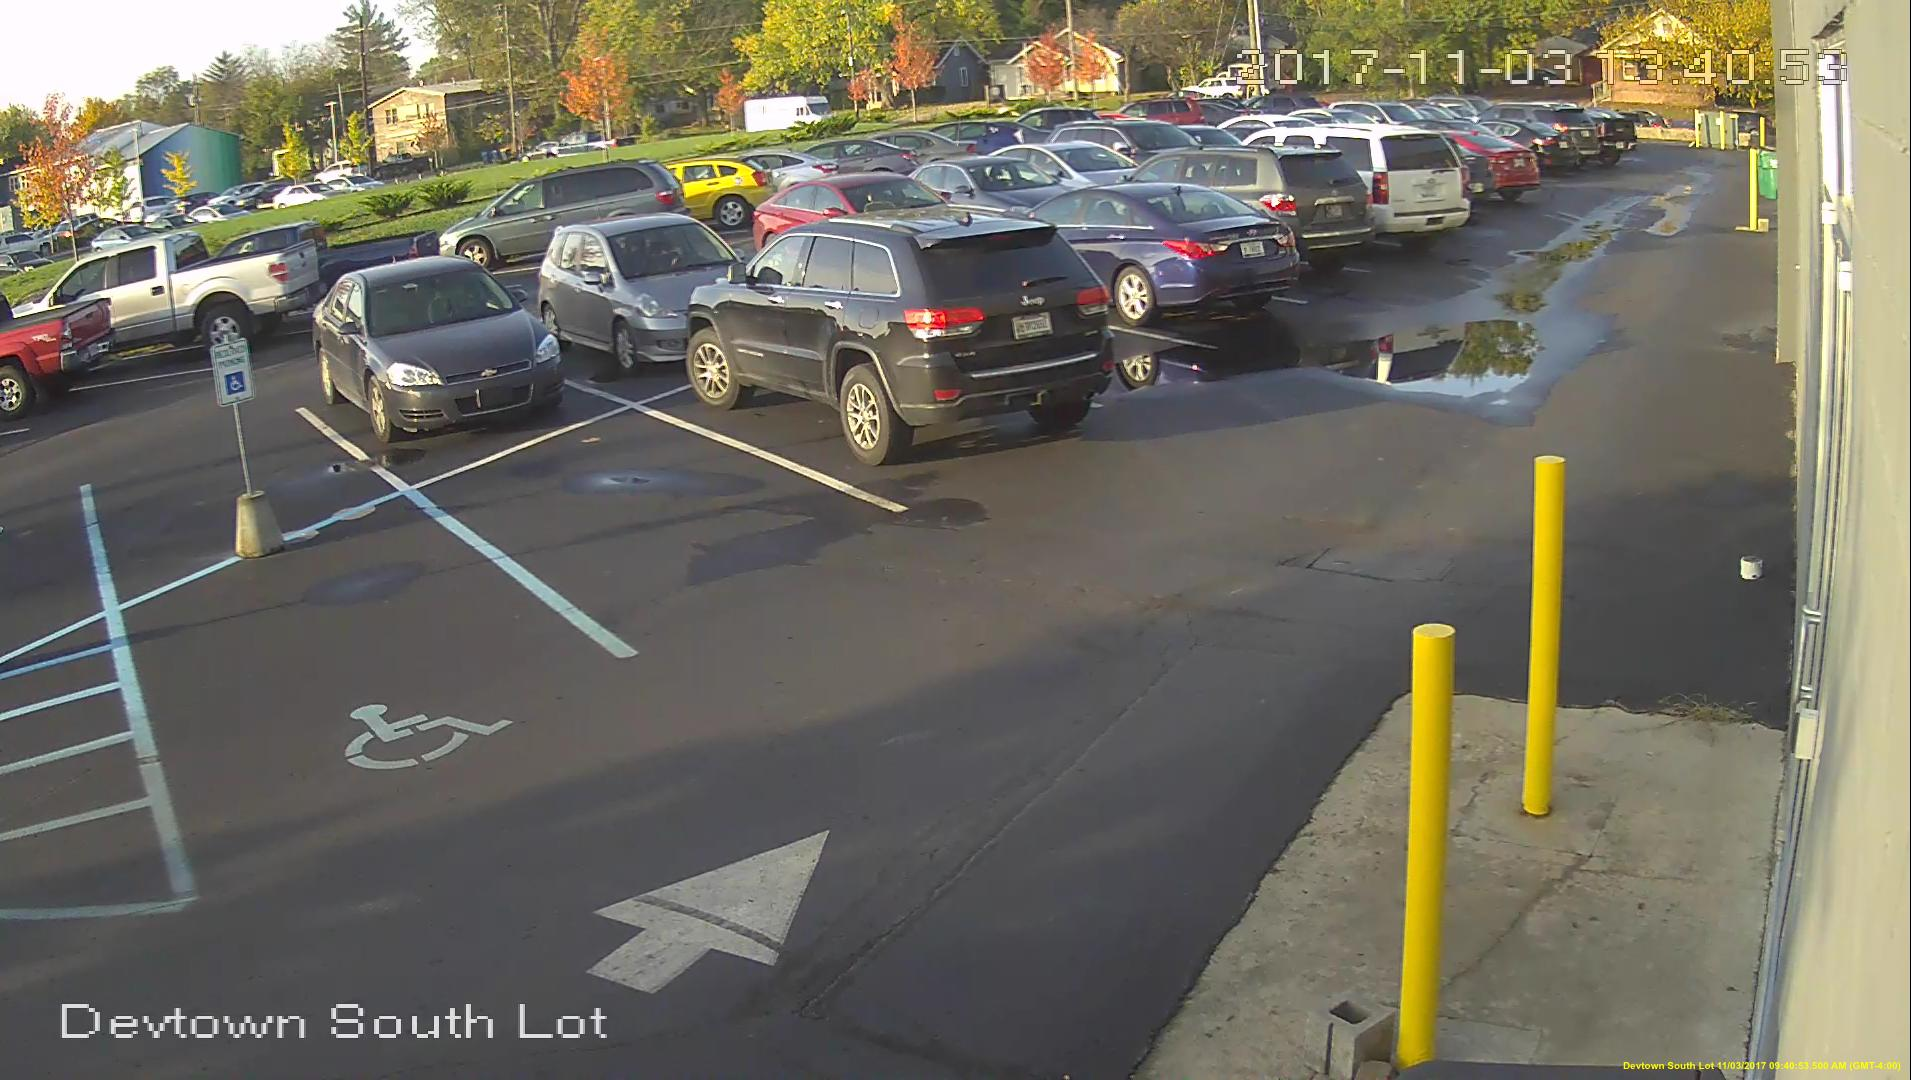fedex_truck: (740, 94, 837, 133)
